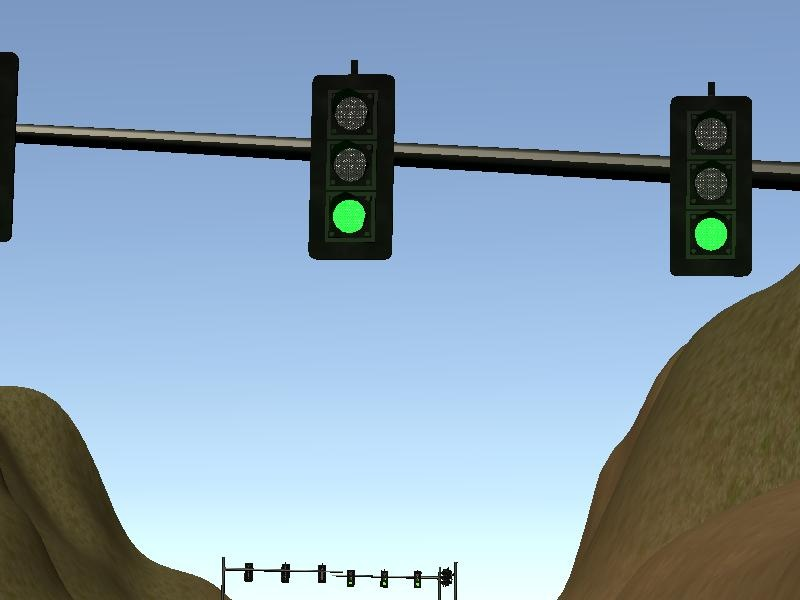green: (668, 92, 755, 278), (309, 71, 392, 262)
